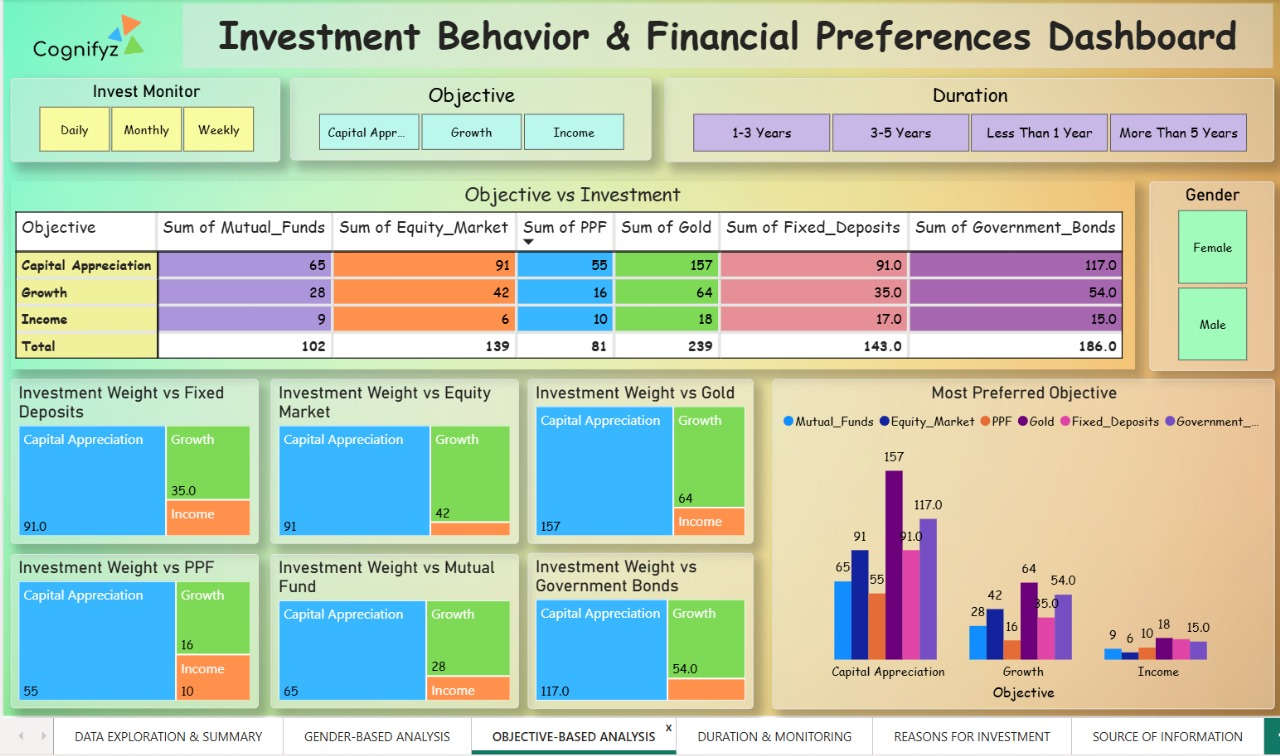

The dashboard page shown, as its layout file describes it:
{"tool":"powerbi","page":{"name":"OBJECTIVE-BASED ANALYSIS","canvas":[1280,720],"ordinal":2},"visuals":[{"type":"textbox","box":[179.7,3.7,1090.7,64.8],"z":0},{"type":"image","box":[7.3,8.6,156.5,59.9],"z":1000},{"type":"pivotTable","title":"Objective vs Investment","fields":{"Rows":["Data.Objective"],"Values":["Sum(Data.Mutual_Funds)","Sum(Data.Equity_Market)","Sum(Data.PPF)","Sum(Data.Gold)","Sum(Data.Fixed_Deposits)","Sum(Data.Government_Bonds)"]},"box":[7.3,181,1123.7,189.5],"z":2000},{"type":"slicer","title":"Gender","fields":{"Values":["Data.gender"]},"box":[1145.7,182.2,124.7,189.5],"z":3000},{"type":"slicer","title":"Duration","fields":{"Values":["Data.Duration"]},"box":[661.6,79.1,609.3,83.7],"z":4000},{"type":"slicer","title":"Invest Monitor","fields":{"Values":["Data.Invest_Monitor"]},"box":[7,79.1,269.8,83.7],"z":5000},{"type":"clusteredColumnChart","title":"Most Preferred Objective","fields":{"Category":["Data.Objective"],"Y":["Sum(Data.Mutual_Funds)","Sum(Data.Equity_Market)","Sum(Data.PPF)","Sum(Data.Gold)","Sum(Data.Fixed_Deposits)","Sum(Data.Government_Bonds)"]},"box":[768.6,380.2,502.3,330.2],"z":6000},{"type":"slicer","title":"Objective","fields":{"Values":["Data.Objective"]},"box":[287.2,79.1,360.5,82.6],"z":7000},{"type":"treemap","title":"Investment Weight vs Fixed Deposits","fields":{"Group":["Data.Objective"],"Values":["Sum(Data.Fixed_Deposits)"]},"box":[7,380.2,247.7,165.1],"z":8000},{"type":"treemap","title":"Investment Weight vs Equity Market","fields":{"Group":["Data.Objective"],"Values":["Sum(Data.Equity_Market)"]},"box":[267.4,380.2,247.7,165.1],"z":9000},{"type":"treemap","title":"Investment Weight vs PPF","fields":{"Group":["Data.Objective"],"Values":["Sum(Data.PPF)"]},"box":[7,555.8,247.7,154.7],"z":10000},{"type":"treemap","title":"Investment Weight vs Mutual Fund","fields":{"Group":["Data.Objective"],"Values":["Sum(Data.Mutual_Funds)"]},"box":[267.4,555.8,247.7,154.7],"z":11000},{"type":"treemap","title":"Investment Weight vs Gold","fields":{"Group":["Data.Objective"],"Values":["Sum(Data.Gold)"]},"box":[524.4,380.2,225.6,165.1],"z":12000},{"type":"treemap","title":"Investment Weight vs Government Bonds","fields":{"Group":["Data.Objective"],"Values":["Sum(Data.Government_Bonds)"]},"box":[524.4,554.7,225.6,155.8],"z":13000}]}

Visuals, with their boxes on the page's 1280x720 design canvas (x1, y1, x2, y2). These are canvas units, not pixel positions in the 1280x756 screenshot, which may show the page scaled, cropped or inside an application window:
textbox: bbox=(180, 4, 1270, 68)
image: bbox=(7, 9, 164, 68)
"Objective vs Investment" pivotTable: bbox=(7, 181, 1131, 370)
"Gender" slicer: bbox=(1146, 182, 1270, 372)
"Duration" slicer: bbox=(662, 79, 1271, 163)
"Invest Monitor" slicer: bbox=(7, 79, 277, 163)
"Most Preferred Objective" clusteredColumnChart: bbox=(769, 380, 1271, 710)
"Objective" slicer: bbox=(287, 79, 648, 162)
"Investment Weight vs Fixed Deposits" treemap: bbox=(7, 380, 255, 545)
"Investment Weight vs Equity Market" treemap: bbox=(267, 380, 515, 545)
"Investment Weight vs PPF" treemap: bbox=(7, 556, 255, 710)
"Investment Weight vs Mutual Fund" treemap: bbox=(267, 556, 515, 710)
"Investment Weight vs Gold" treemap: bbox=(524, 380, 750, 545)
"Investment Weight vs Government Bonds" treemap: bbox=(524, 555, 750, 710)
